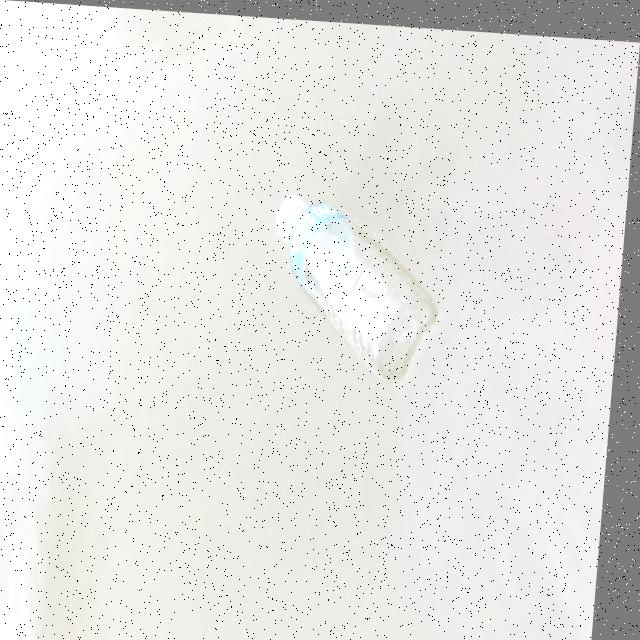waterbottle: (255, 173, 476, 410)
